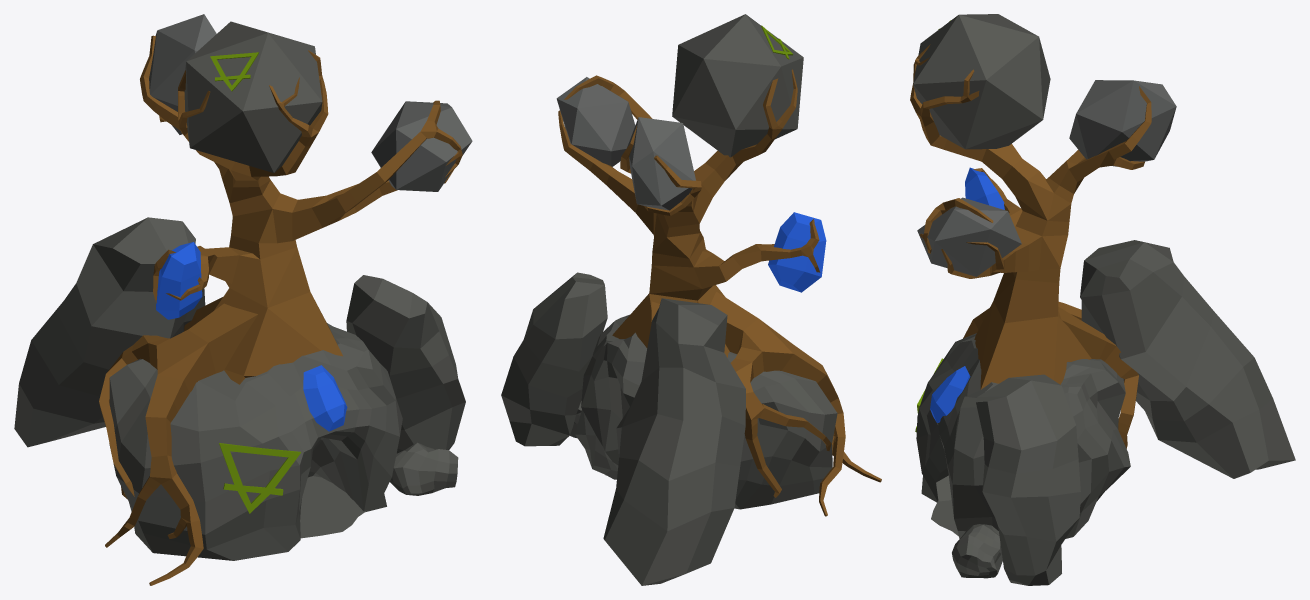
File: shelterSTONE.fbx
3 views of the same model, side by side, from view 1: azimuth 30°, elevation 25°; view 2: azimuth 150°, elevation 25°; view 3: azimuth 270°, elevation 25° (orthographic). The views are drawn at different scales.
Parts seen in each view (by area): view 1: Cube.008, Cube.009, Cylinder.001, Icosphere.026, Cylinder, Icosphere.027, Icosphere.025, Cube.010, Plane.001, amber.001, amber, Plane (+1 smaller); view 2: Cylinder.001, Cube.009, Cube.008, Icosphere.026, Cylinder, Icosphere.025, Icosphere.027, amber.001; view 3: Cylinder.001, Cube.009, Cylinder, Cube.008, Icosphere.026, Icosphere.025, Icosphere.027, Cube.010, amber, amber.001, Plane.001.
Part boxes in pixels (x1,y1,x2,y2): Cube.008: (109,323,402,560); Cube.009: (99,35,462,585); Cylinder.001: (14,217,205,447); Icosphere.026: (184,21,322,172); Cylinder: (346,275,465,453); Icosphere.027: (371,101,472,191); Icosphere.025: (149,14,216,134); Cube.010: (390,442,458,495); Plane.001: (300,476,366,538); amber.001: (156,242,202,319); amber: (303,365,347,431); Plane: (219,443,300,513); Cylinder.001: (603,298,745,585); Cube.009: (558,69,881,516); Cube.008: (575,314,837,509); Icosphere.026: (672,14,803,157); Cylinder: (501,272,607,446); Icosphere.025: (627,117,695,210); Icosphere.027: (556,77,635,166); amber.001: (768,212,826,292); Cylinder.001: (1080,240,1295,478); Cube.009: (910,44,1151,448); Cylinder: (976,374,1080,585); Cube.008: (916,333,1130,538); Icosphere.026: (913,14,1050,149); Icosphere.025: (1069,80,1176,166); Icosphere.027: (917,197,1021,276); Cube.010: (952,524,1002,578); amber: (930,366,970,422); amber.001: (965,167,1004,209); Plane.001: (931,500,958,536).
Bounding box in the file's own units: 389 × 524 × 379.
